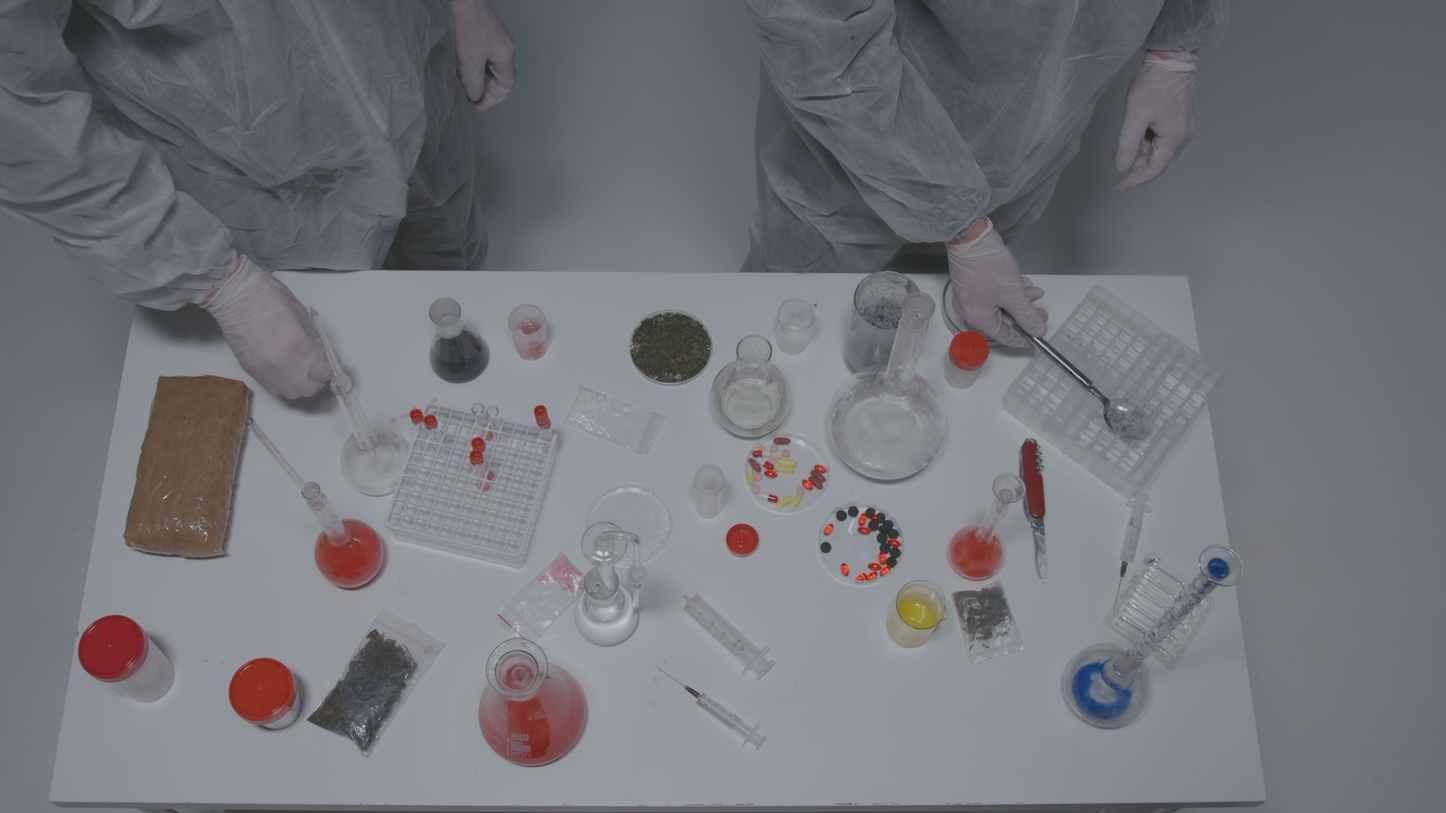gloves: (178, 243, 345, 412), (934, 216, 1052, 358), (1118, 35, 1210, 196), (437, 6, 534, 124)
